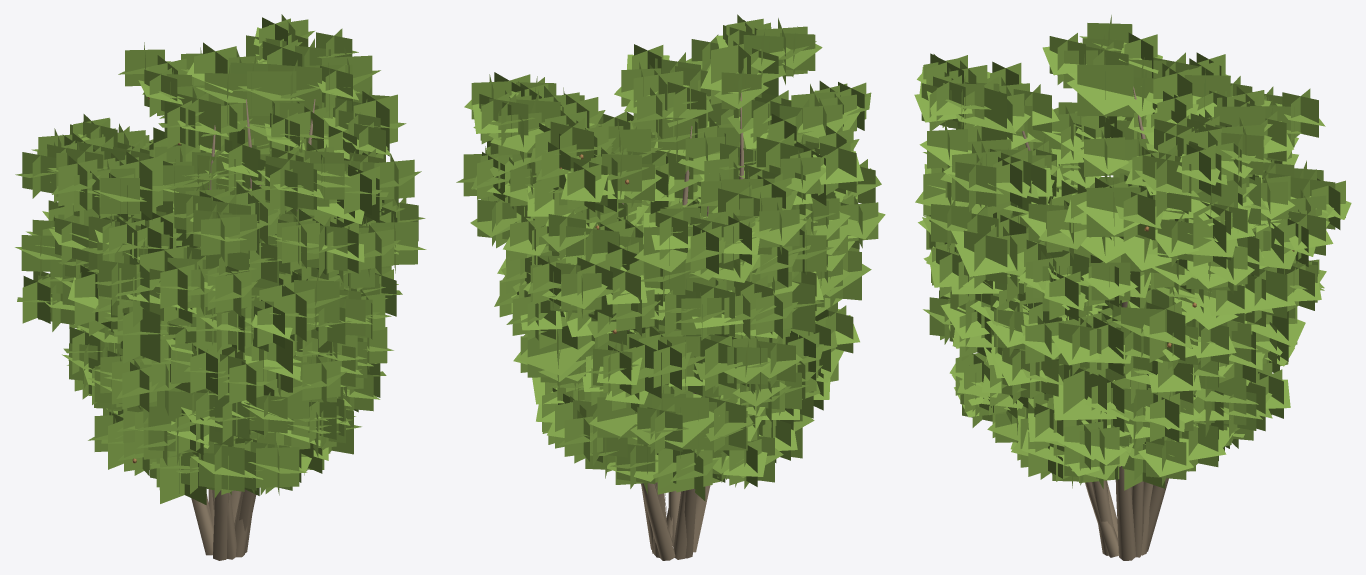
File: noisetier_4_f2_jeu.glb
The picture shows the model from 3 angles, left to right: view 1: azimuth 30°, elevation 25°; view 2: azimuth 150°, elevation 25°; view 3: azimuth 270°, elevation 25°; orthographic projection. The views are drawn at different scales.
Parts seen in each view (by area): view 1: Noisetier_T4_f2_Leger; view 2: Noisetier_T4_f2_Leger; view 3: Noisetier_T4_f2_Leger.
Boxes of the visible parts, box(x1,y1,x2,y2) form: Noisetier_T4_f2_Leger: box(15, 14, 426, 560); Noisetier_T4_f2_Leger: box(456, 14, 885, 560); Noisetier_T4_f2_Leger: box(914, 15, 1351, 560).
Bounding box in the file's own units: 5.44 × 6.71 × 5.55.
